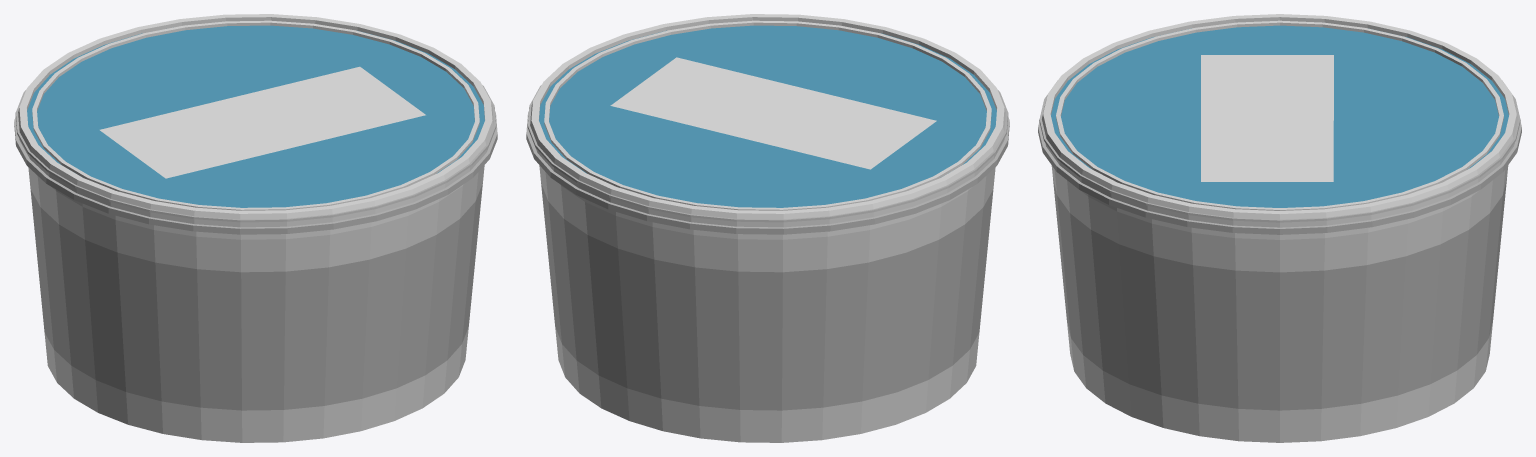
Rendered from Vanilla Ice Cream Bucket.fbx.
3 views of the same model, side by side, from view 1: azimuth 30°, elevation 25°; view 2: azimuth 150°, elevation 25°; view 3: azimuth 270°, elevation 25° (orthographic).
Visible parts, largest first — view 1: Vanilla Ice Cream Bucket; view 2: Vanilla Ice Cream Bucket; view 3: Vanilla Ice Cream Bucket.
Boxes of the visible parts, bbox=[...] form: Vanilla Ice Cream Bucket: bbox=[14, 14, 497, 442]; Vanilla Ice Cream Bucket: bbox=[526, 14, 1009, 442]; Vanilla Ice Cream Bucket: bbox=[1038, 14, 1521, 442].
Size of the model in its own units: 52.97 by 29.02 by 52.97.
1 material, 1 textured.
